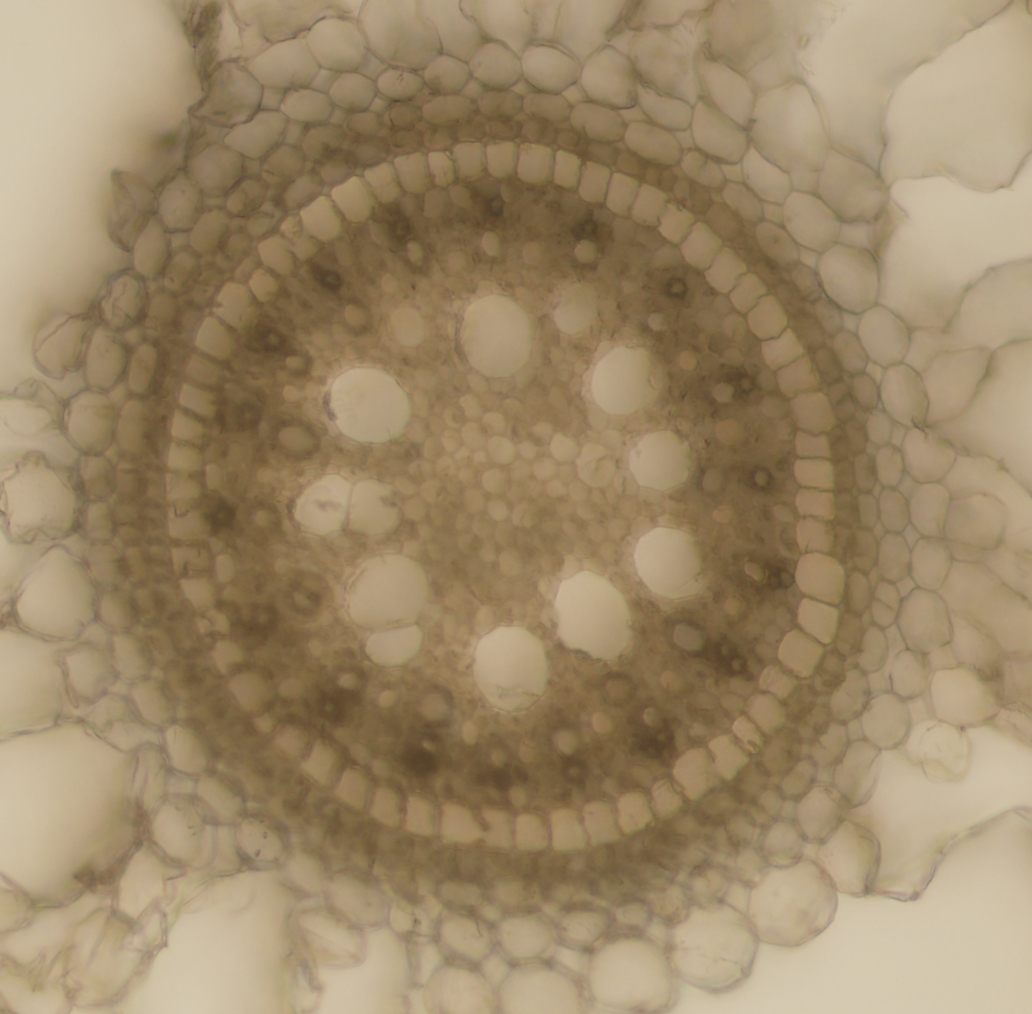lm: (344, 551, 430, 668), (551, 570, 633, 665), (294, 473, 402, 537), (473, 623, 548, 711), (329, 366, 411, 441), (461, 293, 534, 377), (635, 525, 709, 601), (589, 344, 666, 415), (633, 428, 695, 490)
